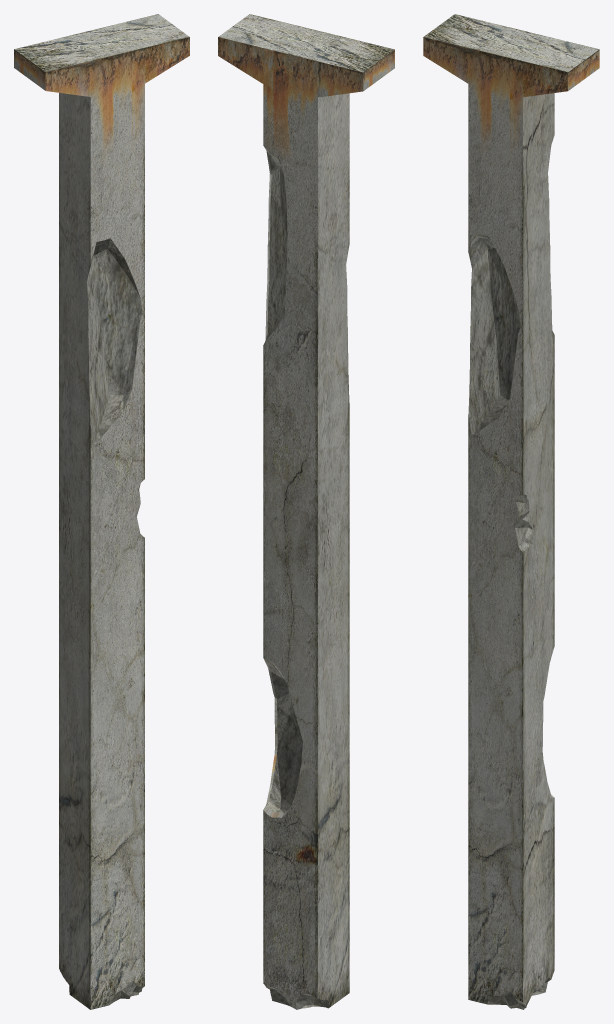
File: Factory1Column03.FBX
3 views of the same model, side by side, from view 1: azimuth 30°, elevation 25°; view 2: azimuth 150°, elevation 25°; view 3: azimuth 330°, elevation 25° (orthographic).
Visible parts, largest first — view 1: Factory1Column03; view 2: Factory1Column03; view 3: Factory1Column03.
Part boxes in pixels (x1,y1,x2,y2): Factory1Column03: (14, 14, 189, 1009); Factory1Column03: (218, 14, 394, 1009); Factory1Column03: (423, 14, 599, 1009).
Size of the model in its own units: 124 by 782 by 46.88.
